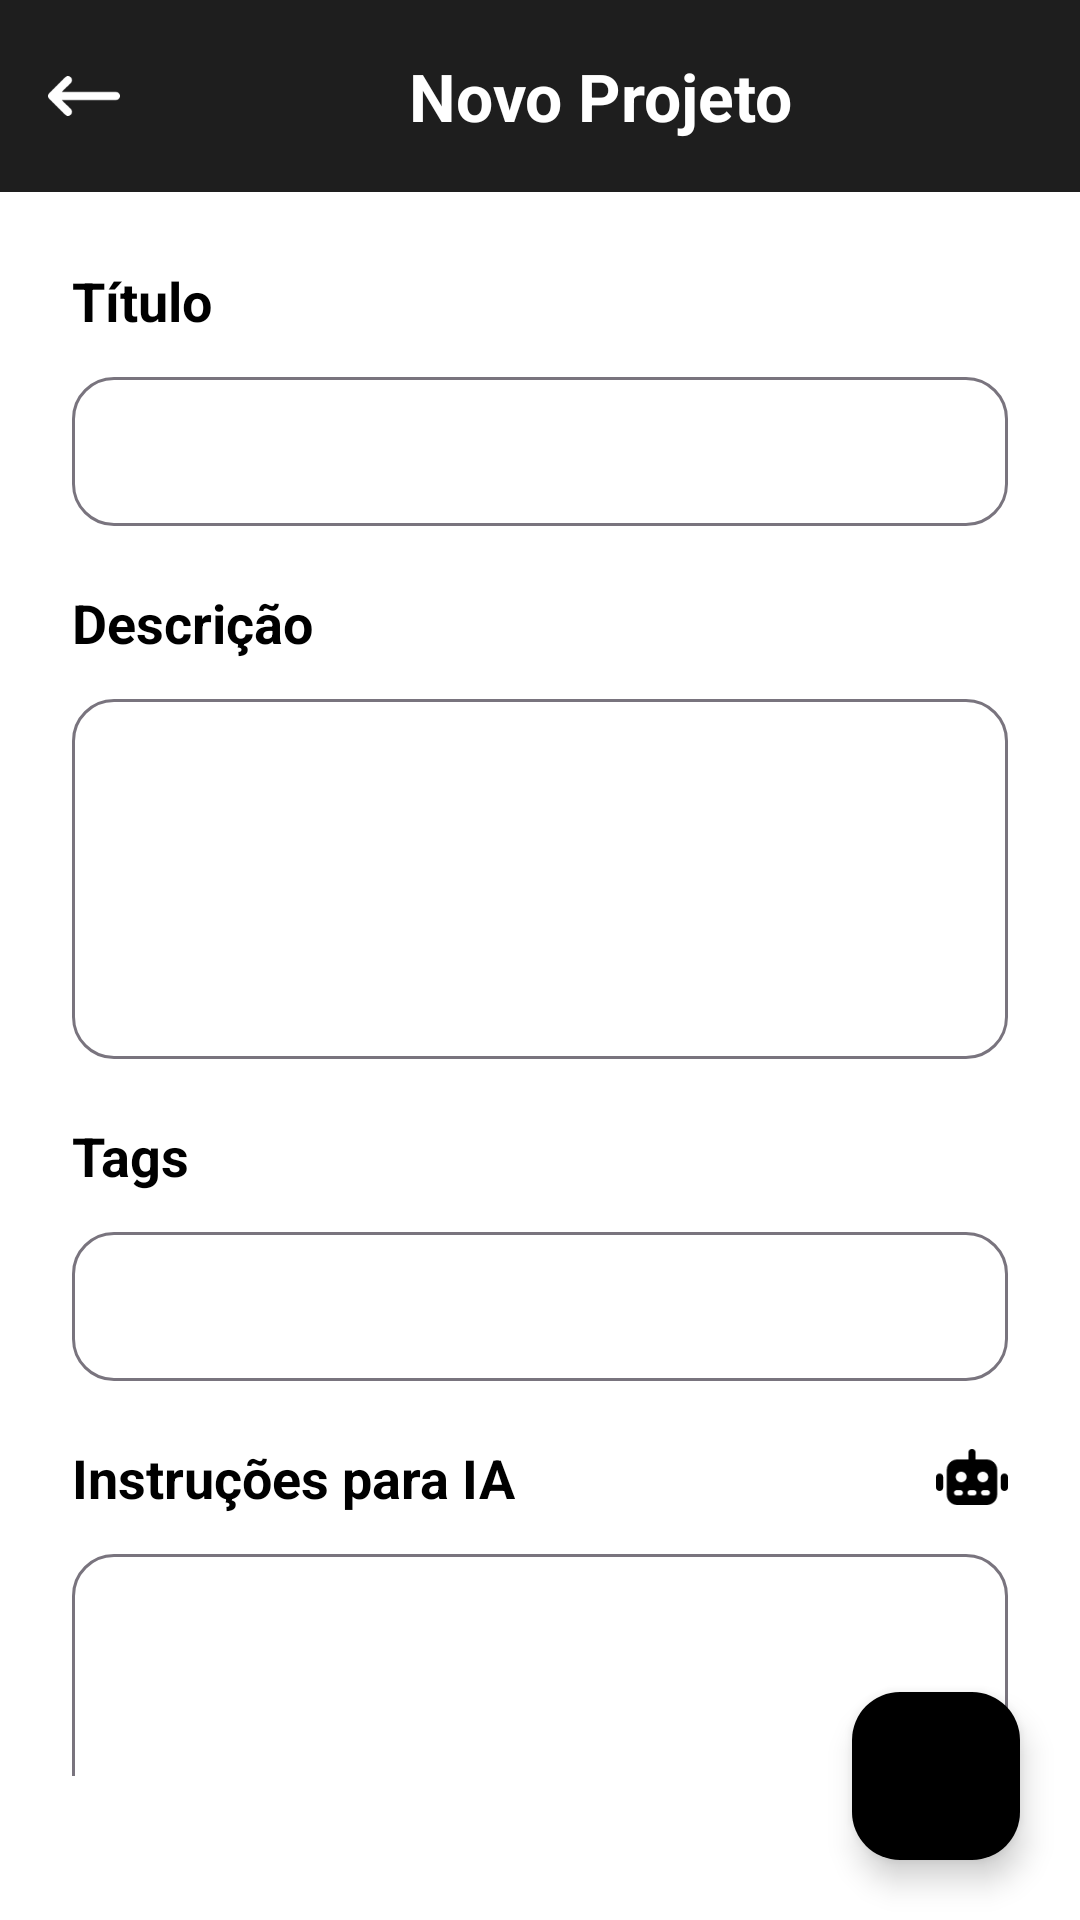

Icon click points for this 1080w x 1920h phone screenshot, format point (x, y):
Voltar: point (84, 96)
